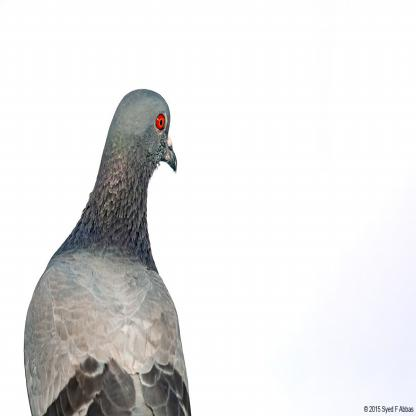Rock Pigeon: (14, 80, 196, 416)
